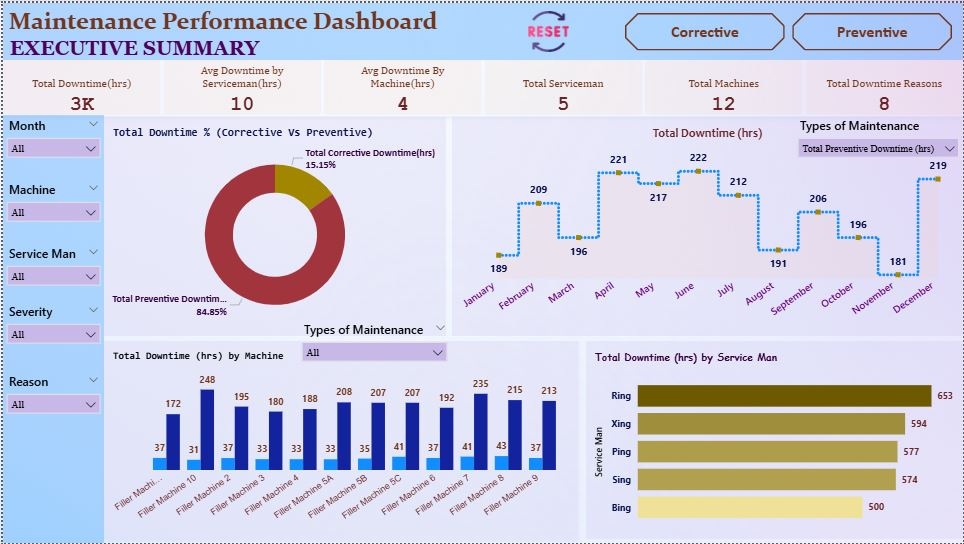

What the dashboard file says about the page in this screenshot:
{"tool":"powerbi","page":{"name":"Summary","canvas":[1280,720],"ordinal":0},"visuals":[{"type":"shape","box":[0,0,1280,76],"z":0},{"type":"textbox","box":[0,0,586.7,49.3],"z":1000},{"type":"textbox","box":[0,40.3,350.6,49.7],"z":2000},{"type":"cardVisual","fields":{"Data":["Measure.Total Downtime","Measure.Avg Downtime by Serviceman(hrs)","Measure.Avg Downtime By Machine(hrs)","Measure.Total Serviceman","Measure.Total Machines","Measure.Total Downtime Reasons"]},"box":[0,76.6,1280,73.9],"z":3000},{"type":"shape","box":[0,149.3,134.7,570.7],"z":4000},{"type":"shape","box":[134.7,152,456,292],"z":5000},{"type":"donutChart","title":"Total Downtime % (Corrective Vs Preventive)","fields":{"Y":["Measure.Total Corrective Downtime(hrs)","Measure.Total Preventive Downtime (hrs)"]},"box":[134.7,152,456,292],"z":6000},{"type":"shape","box":[598.7,152,681.3,292],"z":7000},{"type":"shape","box":[134.7,450.7,633.3,264],"z":8000},{"type":"lineChart","title":"Total Downtime (hrs) ","fields":{"Y":["Measure.Total Preventive Downtime (hrs)"],"Category":["Calendar Table.Date Hierarchy.Month Name"]},"box":[598.7,152,681.3,292],"z":9000},{"type":"shape","box":[777.3,450.7,502.7,264],"z":10000},{"type":"clusteredBarChart","title":"Total Downtime (hrs) by Service Man","fields":{"Category":["Maintenance Details.Service Man"],"Y":["Measure.Total Downtime(hrs)"]},"box":[777.3,450.7,501.3,264],"z":11000},{"type":"clusteredColumnChart","title":"Total Downtime (hrs) by Machine","fields":{"Y":["Measure.Total Corrective Downtime(hrs)","Measure.Total Preventive Downtime (hrs)"],"Category":["Maintenance Details.Machine Name"]},"box":[134.7,450.7,633.3,264],"z":12000},{"type":"slicer","fields":{"Values":["Parameter.Parameter"]},"box":[1054.7,152,225.3,60],"z":13000},{"type":"slicer","fields":{"Values":["Parameter.Parameter"]},"box":[393.3,424,204,58.7],"z":14000},{"type":"pageNavigator","box":[829.3,13.3,437.3,50.7],"z":15000},{"type":"slicer","fields":{"Values":["Calendar Table.Month Name"]},"box":[0,152,134.7,70.7],"z":16000},{"type":"slicer","fields":{"Values":["Maintenance Details.Machine"]},"box":[0,237.3,134.7,70.7],"z":17000},{"type":"slicer","fields":{"Values":["Maintenance Details.Service Man"]},"box":[0,322.7,134.7,70.7],"z":18000},{"type":"slicer","fields":{"Values":["Maintenance Details.Severity"]},"box":[0,400,134.7,70.7],"z":20000},{"type":"slicer","fields":{"Values":["Maintenance Details.Reason"]},"box":[0,493.3,134.7,70.7],"z":21000},{"type":"actionButton","box":[677.3,6.7,100,62.7],"z":22000}]}

Visuals, with their boxes in screenshot pixels (x1, y1, x2, y2), scaled from the page's 1280x720 canvas onto the 964x544 screenshot:
shape: left=0, top=0, right=963, bottom=57
textbox: left=0, top=0, right=442, bottom=37
textbox: left=0, top=30, right=264, bottom=68
cardVisual - Measure.Total Downtime x Measure.Avg Downtime by Serviceman(hrs): left=0, top=58, right=963, bottom=114
shape: left=0, top=113, right=101, bottom=543
shape: left=101, top=115, right=445, bottom=335
"Total Downtime % (Corrective Vs Preventive)" donutChart: left=101, top=115, right=445, bottom=335
shape: left=451, top=115, right=963, bottom=335
shape: left=101, top=341, right=578, bottom=540
"Total Downtime (hrs) " lineChart: left=451, top=115, right=963, bottom=335
shape: left=585, top=341, right=963, bottom=540
"Total Downtime (hrs) by Service Man" clusteredBarChart: left=585, top=341, right=963, bottom=540
"Total Downtime (hrs) by Machine" clusteredColumnChart: left=101, top=341, right=578, bottom=540
slicer - Parameter.Parameter: left=794, top=115, right=963, bottom=160
slicer - Parameter.Parameter: left=296, top=320, right=450, bottom=365
pageNavigator: left=625, top=10, right=954, bottom=48
slicer - Calendar Table.Month Name: left=0, top=115, right=101, bottom=168
slicer - Maintenance Details.Machine: left=0, top=179, right=101, bottom=233
slicer - Maintenance Details.Service Man: left=0, top=244, right=101, bottom=297
slicer - Maintenance Details.Severity: left=0, top=302, right=101, bottom=356
slicer - Maintenance Details.Reason: left=0, top=373, right=101, bottom=426
actionButton: left=510, top=5, right=585, bottom=52
